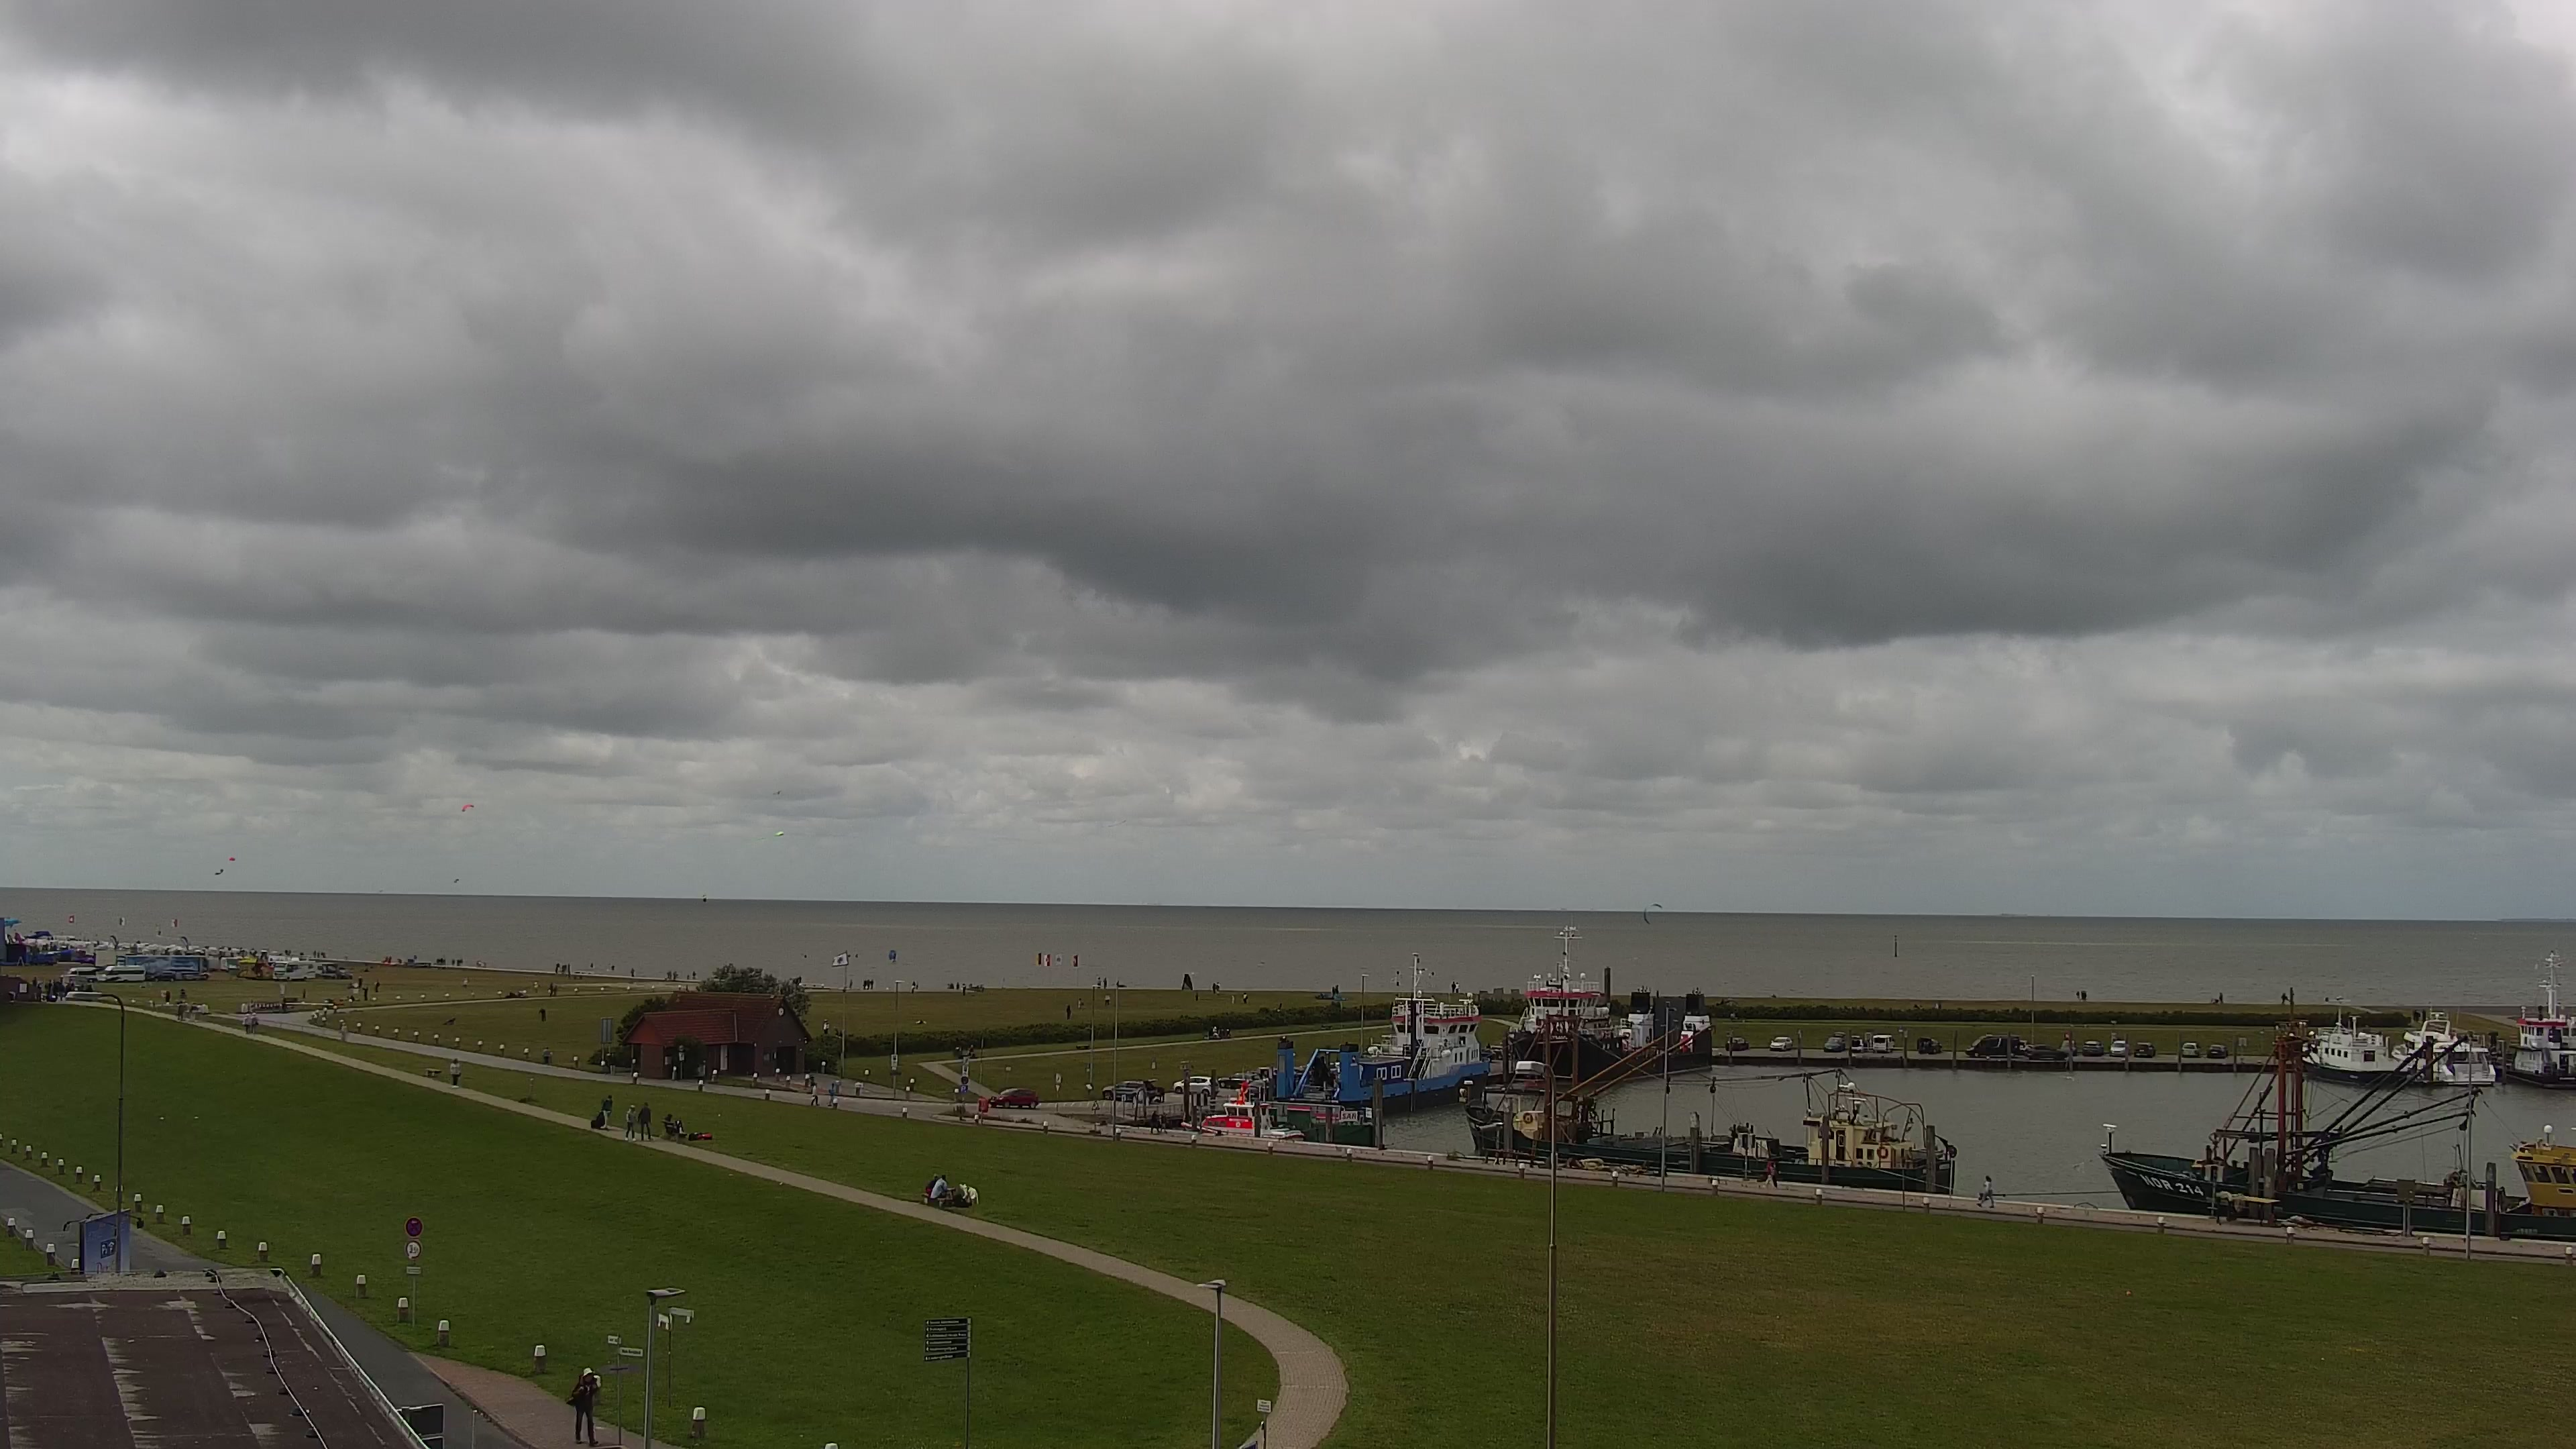human: (566, 1366, 601, 1446), (637, 1101, 652, 1142), (928, 1174, 956, 1199), (1976, 1175, 1994, 1208), (624, 1104, 638, 1142), (600, 1093, 614, 1130), (449, 1057, 462, 1088), (1762, 1161, 1775, 1188), (925, 1173, 939, 1195), (809, 1081, 819, 1107), (1150, 1110, 1160, 1134), (241, 1013, 252, 1034), (826, 1082, 836, 1107), (1157, 1110, 1167, 1133), (1771, 1159, 1778, 1187), (250, 1012, 258, 1034), (1156, 1085, 1165, 1104), (188, 1004, 196, 1021), (541, 1046, 550, 1065), (177, 1000, 184, 1021), (539, 1006, 547, 1023), (182, 1001, 189, 1022), (36, 983, 42, 1002), (58, 983, 66, 1002), (360, 985, 368, 1001), (822, 1018, 829, 1034), (1066, 1004, 1071, 1020), (1242, 991, 1248, 1005), (48, 979, 52, 996), (663, 1112, 672, 1121), (1104, 994, 1111, 1006), (1212, 1026, 1220, 1039), (2280, 992, 2287, 1006), (549, 982, 553, 998), (910, 979, 916, 994), (462, 976, 468, 987), (961, 982, 966, 996), (968, 1043, 975, 1055), (1077, 997, 1082, 1010), (1103, 977, 1108, 990), (1331, 985, 1336, 999), (374, 981, 380, 993), (358, 975, 363, 987), (301, 987, 307, 999), (533, 981, 538, 993), (1097, 976, 1102, 988), (1215, 981, 1220, 993), (1451, 981, 1456, 993), (1455, 981, 1460, 994), (2218, 991, 2224, 1004), (2420, 1008, 2426, 1022), (553, 985, 557, 997), (630, 967, 635, 978), (849, 979, 854, 989), (862, 979, 867, 990), (2076, 990, 2080, 1002), (692, 971, 697, 980), (673, 971, 678, 981), (955, 981, 960, 991), (1934, 1002, 1939, 1010), (867, 978, 871, 990), (1212, 981, 1216, 994), (870, 978, 874, 989), (1335, 983, 1339, 995), (1938, 1001, 1942, 1009), (456, 958, 460, 966), (460, 958, 464, 965), (313, 950, 317, 958), (388, 955, 392, 963), (385, 955, 389, 963), (451, 959, 455, 966), (317, 951, 320, 958), (686, 974, 690, 980)
land: (124, 955, 208, 980), (1101, 1079, 1161, 1102), (1964, 1034, 2019, 1058), (988, 1088, 1038, 1109), (1173, 1075, 1218, 1097), (272, 961, 316, 981), (101, 965, 145, 982), (2025, 1044, 2069, 1059), (1217, 1074, 1260, 1089), (60, 966, 98, 983), (1917, 1036, 1942, 1055), (1823, 1032, 1846, 1053), (1871, 1034, 1894, 1053), (2133, 1040, 2156, 1058), (146, 970, 176, 982), (1768, 1036, 1792, 1051), (1724, 1036, 1749, 1051), (2082, 1040, 2104, 1057), (2110, 1040, 2130, 1057), (2206, 1044, 2229, 1058), (1849, 1035, 1866, 1053), (2181, 1042, 2202, 1058), (2018, 1039, 2030, 1055)
sea: (2098, 947, 2575, 1240), (1462, 924, 1717, 1195), (1718, 1014, 1958, 1195), (1274, 951, 1489, 1110), (1185, 1087, 1375, 1146), (2498, 949, 2575, 1088), (2298, 996, 2409, 1086), (2390, 1001, 2497, 1089), (1180, 1079, 1305, 1140)
